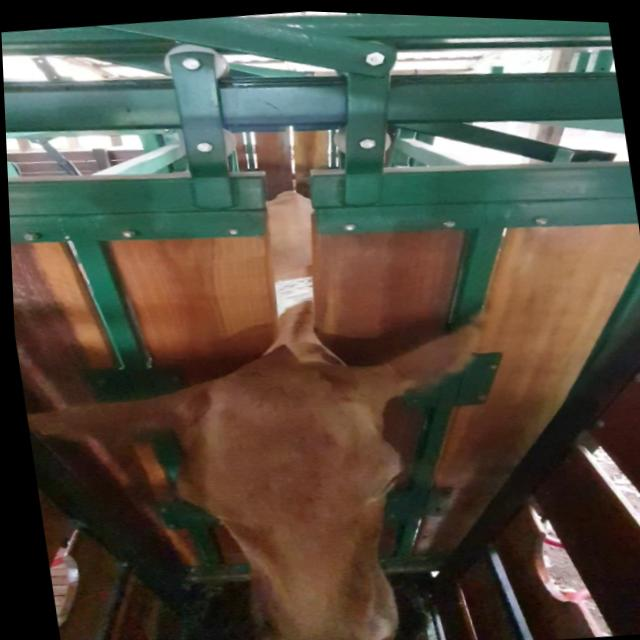cowFace: (151, 344, 418, 640)
